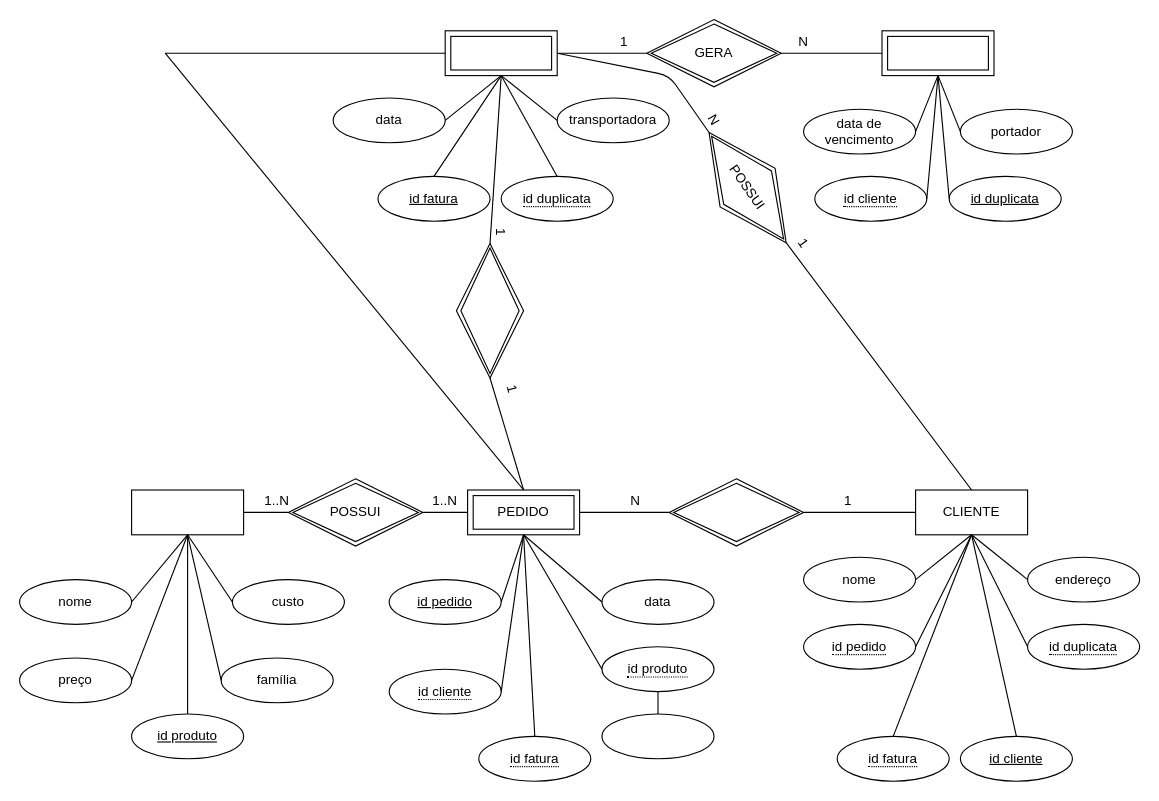
This 1159x801 diagram has some shape labels left out. Each missing label, with the centre of its shape:
CONTÉM: point (489, 310)
DUPLICATA: point (937, 53)
FATURA: point (500, 53)
PRODUTO: point (187, 512)
qtde de venda: point (657, 736)
REALIZA: point (736, 512)
